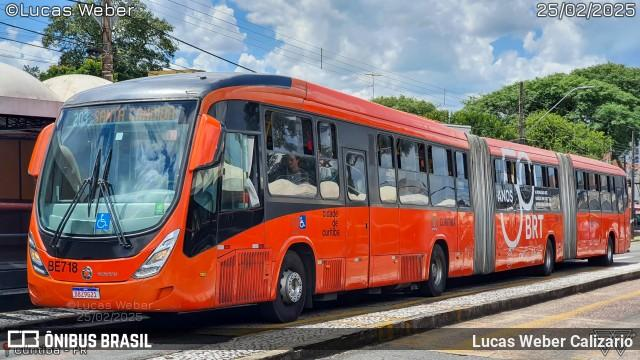SANTA CANDIDA: (91, 103, 185, 126)
